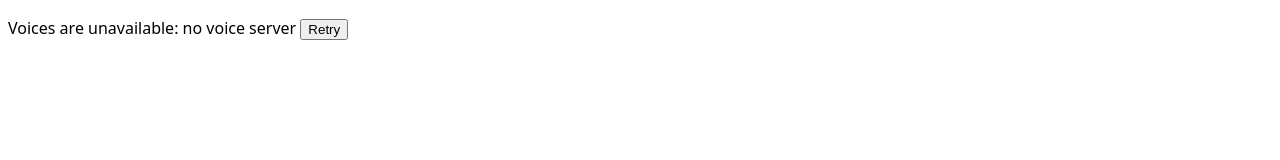
Test: VoicePicker when the voices are unavailable › loads the voices again with Retry
This screenshot has width=1280, height=160.
Later steps or results of the test are not shown.
Click the button "Retry" at (324, 30), box top-left (300, 19), bottom-right (348, 40)
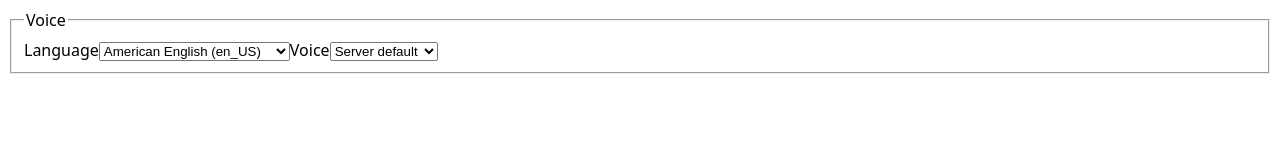
Now the number of dropdowns is 2, box top-left (99, 42), bottom-right (290, 61); top-left (330, 42), bottom-right (438, 61)
